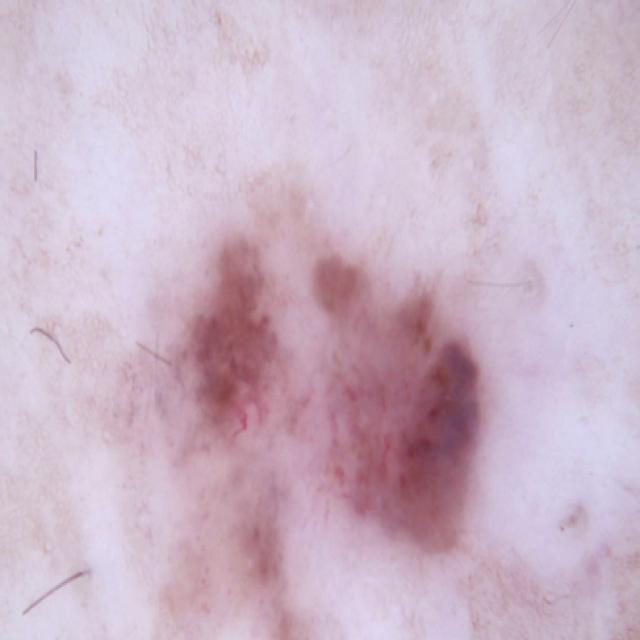Carcinoma: (126, 182, 560, 640)
